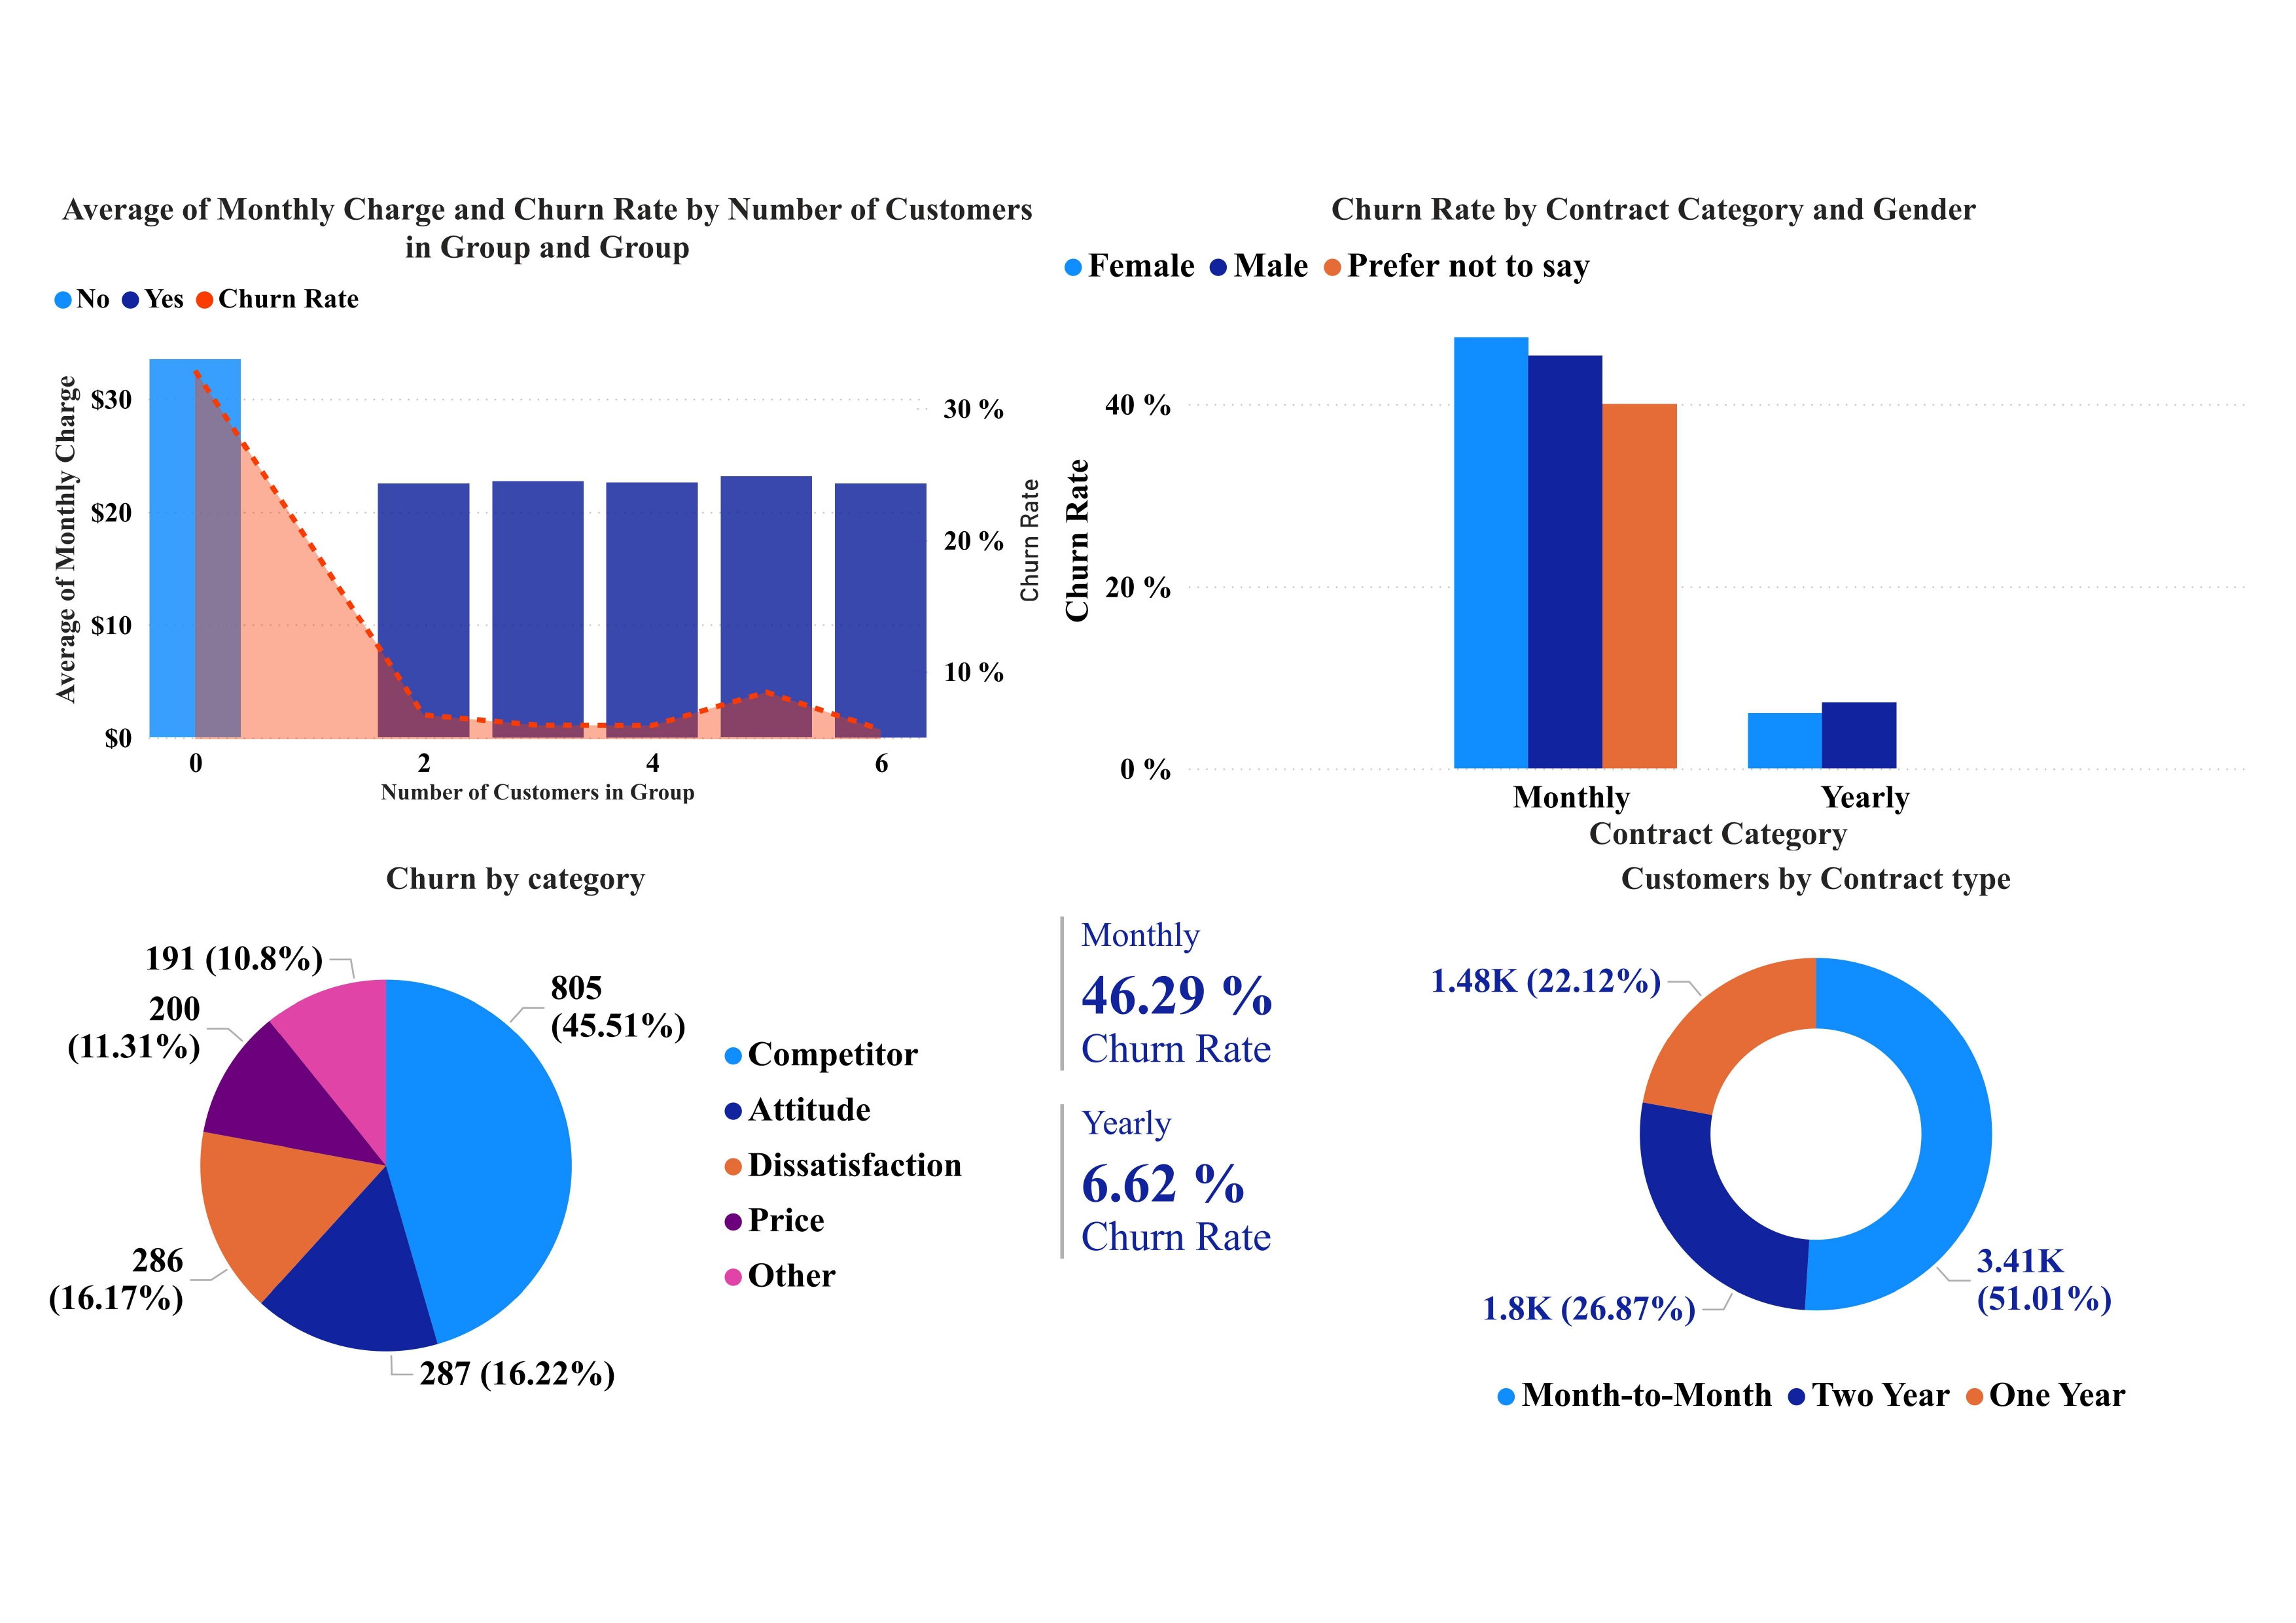

What the dashboard file says about the page in this screenshot:
{"tool":"powerbi","page":{"name":"Groups and Categories","canvas":[1280,720],"ordinal":1},"visuals":[{"type":"lineStackedColumnComboChart","fields":{"Category":["Databel - Data.Number of Customers in Group"],"Y":["Avg(Databel - Data.Monthly Charge)"],"Series":["Databel - Data.Group"],"Y2":["Databel - Data.Churn Rate"]},"box":[0,0,583.7,360.5],"z":0},{"type":"pieChart","title":"Churn by category","fields":{"Category":["Databel - Data.Churn Category"],"Y":["CountNonNull(Databel - Data.Churn Label)"]},"box":[0,387.1,547,332.9],"z":1000},{"type":"clusteredColumnChart","fields":{"Y":["Databel - Data.Churn Rate"],"Category":["Databel - Data.Contract Category"],"Series":["Databel - Data.Gender"]},"box":[583.7,0,696.5,387.2],"z":2000},{"type":"multiRowCard","fields":{"Values":["Databel - Data.Churn Rate","Databel - Data.Contract Category"]},"box":[583.7,415.1,187.2,304.7],"z":3000},{"type":"donutChart","title":"Customers by Contract type","fields":{"Y":["Count(Databel - Data.Customer ID)"],"Category":["Databel - Data.Contract Type"]},"box":[770.9,387.2,509.3,332.6],"z":4000}]}

Visuals, with their boxes on the page's 1280x720 design canvas (x1, y1, x2, y2). These are canvas units, not pixel positions in the 2296x1623 screenshot, which may show the page scaled, cropped or inside an application window:
lineStackedColumnComboChart - Databel - Data.Number of Customers in Group x Avg(Databel - Data.Monthly Charge): x1=0, y1=0, x2=584, y2=360
"Churn by category" pieChart: x1=0, y1=387, x2=547, y2=720
clusteredColumnChart - Databel - Data.Churn Rate x Databel - Data.Contract Category: x1=584, y1=0, x2=1280, y2=387
multiRowCard - Databel - Data.Churn Rate x Databel - Data.Contract Category: x1=584, y1=415, x2=771, y2=720
"Customers by Contract type" donutChart: x1=771, y1=387, x2=1280, y2=720
